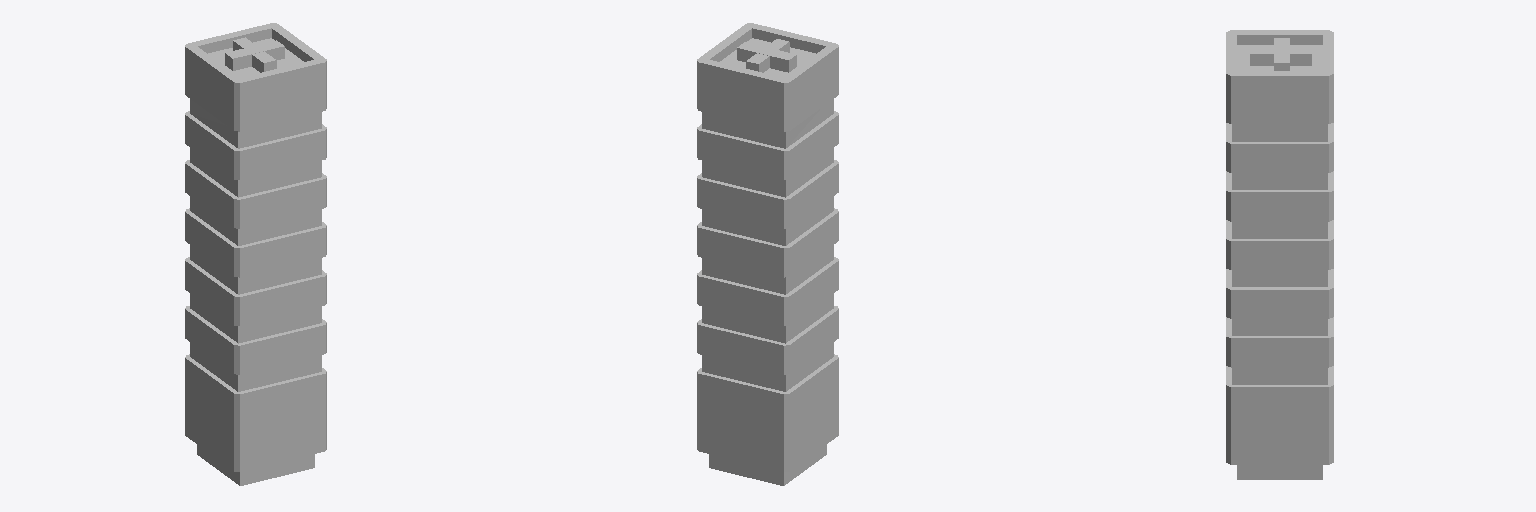
The model's file is hospital.obj.
3 renders of one model, left to right at view 1: azimuth 30°, elevation 25°; view 2: azimuth 150°, elevation 25°; view 3: azimuth 270°, elevation 25°, orthographic.
Visible parts, largest first — view 1: low-detail-building-h; view 2: low-detail-building-h; view 3: low-detail-building-h.
Part boxes in pixels (left/top/right/bottom): low-detail-building-h: left=185, top=23, right=326, bottom=485; low-detail-building-h: left=697, top=23, right=838, bottom=485; low-detail-building-h: left=1226, top=30, right=1333, bottom=479.
Size of the model in its own units: 0.5 by 2.11 by 0.5.